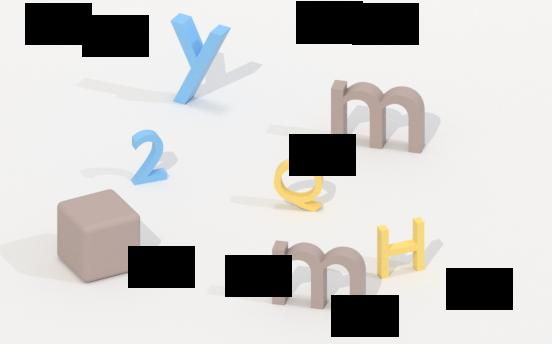2: (129, 125, 170, 187)
H-hoa: (374, 216, 430, 282)
Y: (167, 10, 233, 108)
hop: (53, 187, 144, 287)
m: (327, 74, 428, 157), (271, 235, 369, 319)
q: (273, 156, 327, 215)
